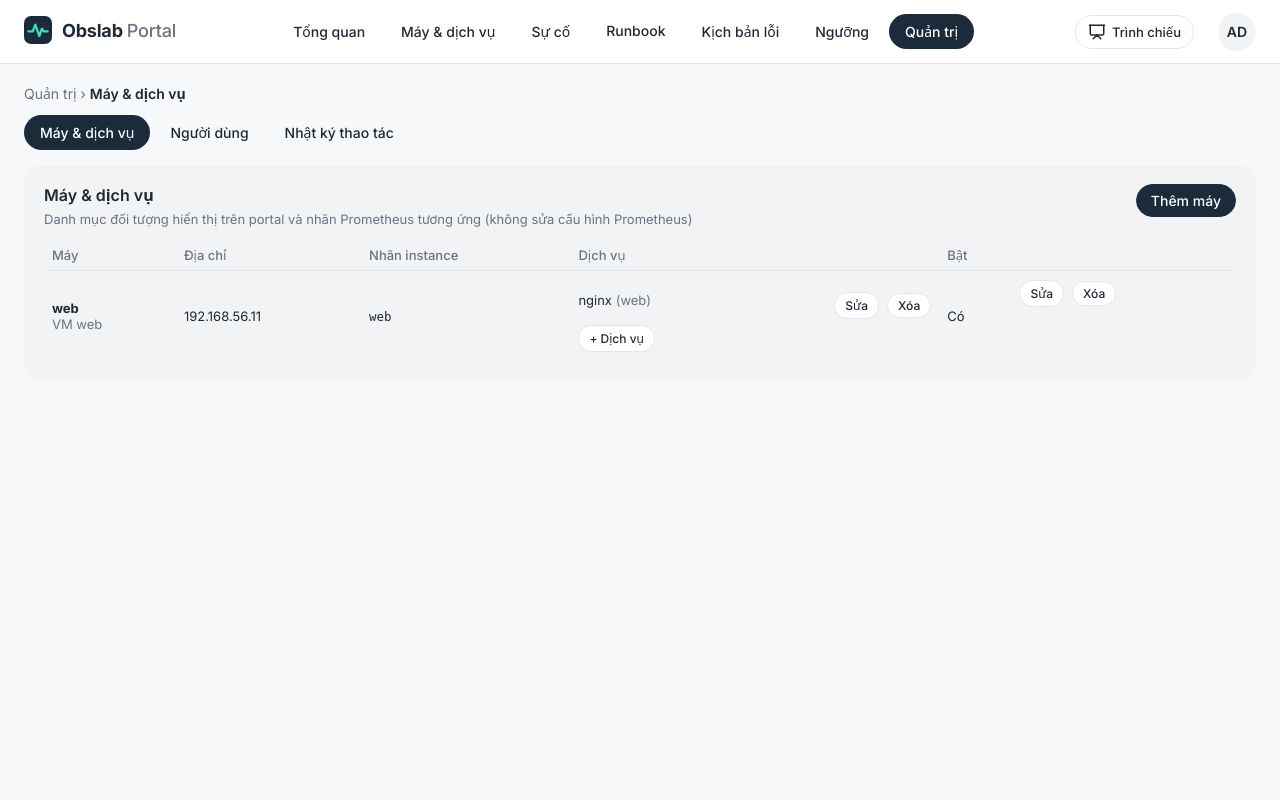
Scenario: quản trị: máy & dịch vụ › thêm máy gửi đủ trường
This screenshot has width=1280, height=800.
Click the button "Thêm máy" at (1186, 200), box x1=1136 y1=184 x2=1236 y2=217
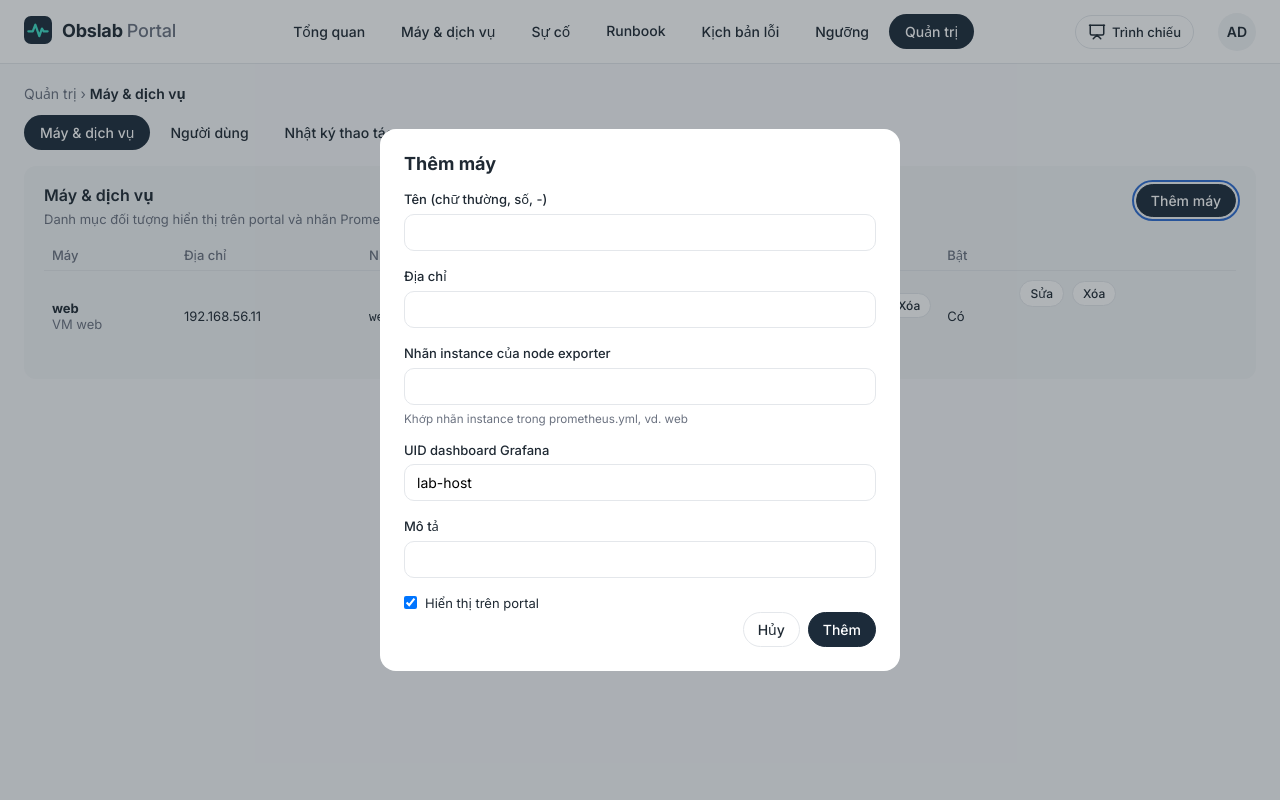
Type "cache" into the field labelled "Tên (chữ thường, số, -)" at (640, 232), box x1=404 y1=214 x2=876 y2=251
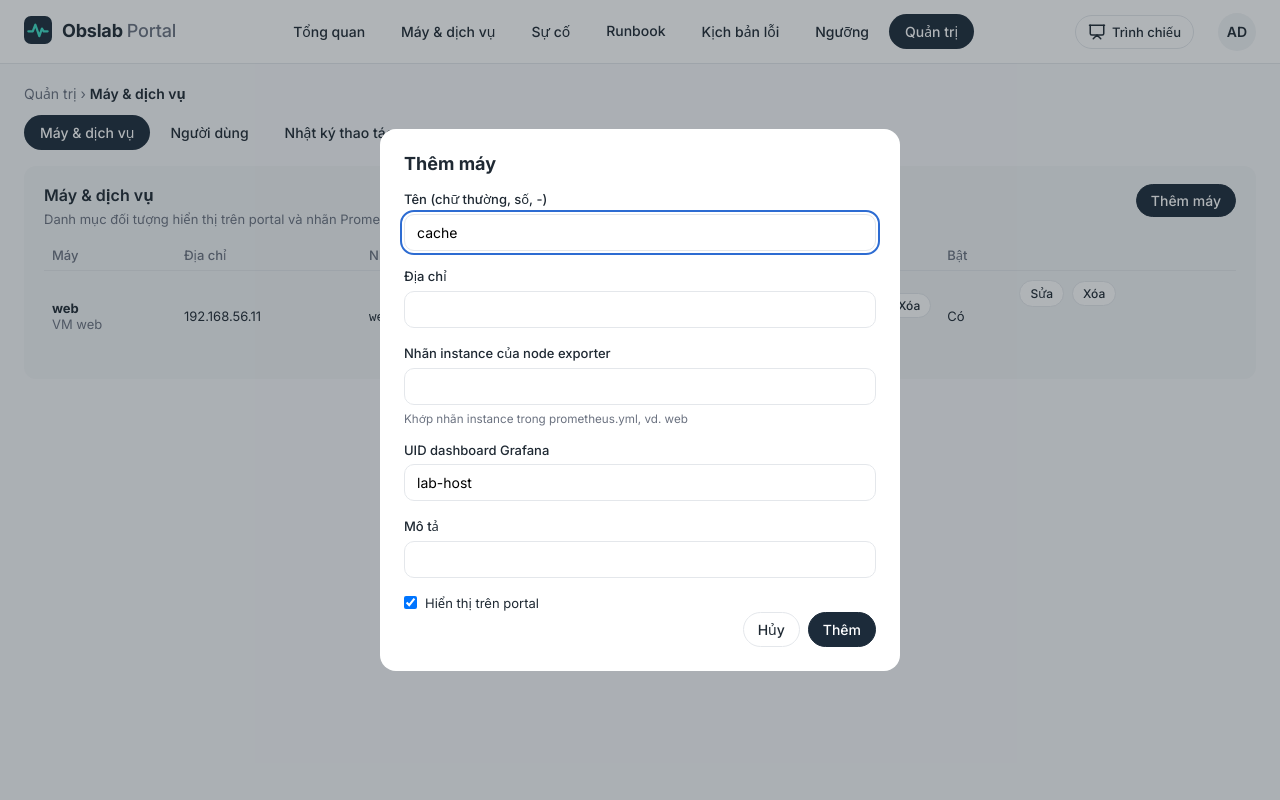
Type "cache" into the field labelled "Nhãn instance của node exporter" at (640, 386), box x1=404 y1=368 x2=876 y2=405
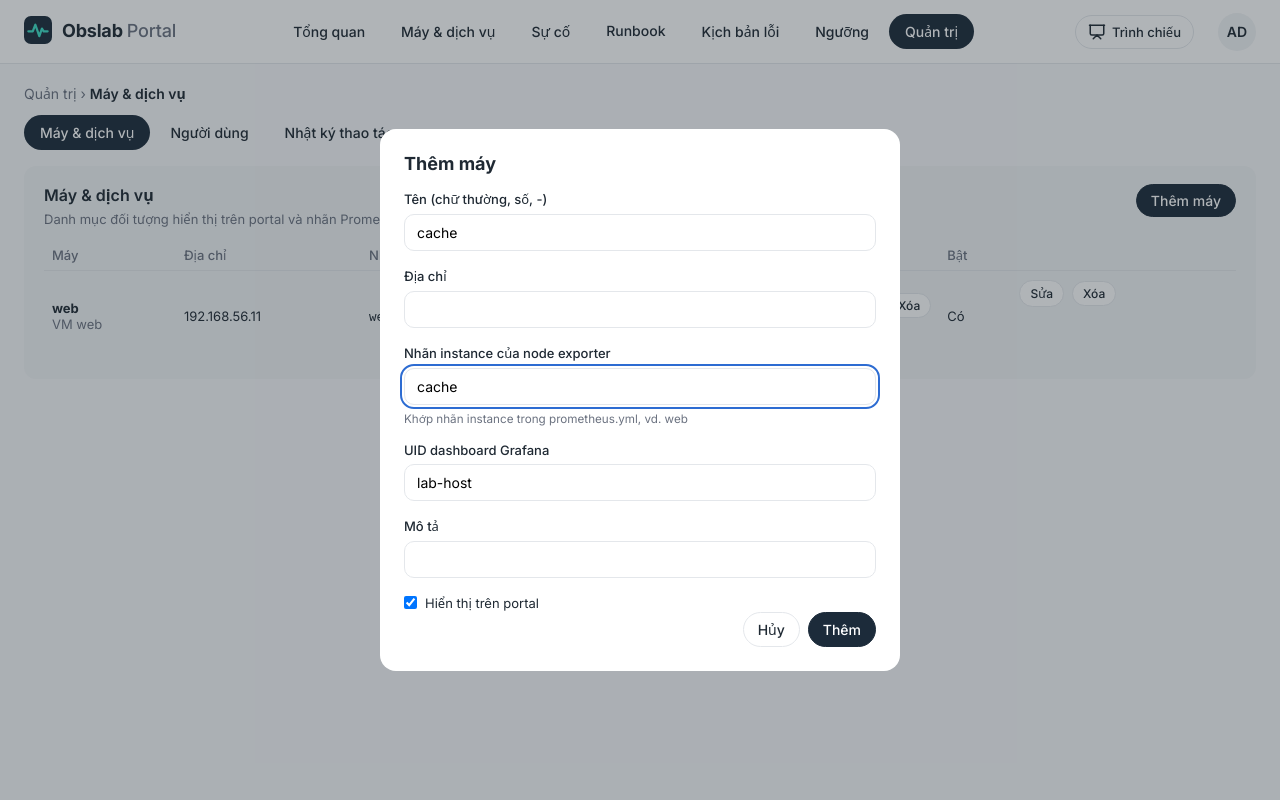
Click the button "Thêm" at (842, 630), box x1=808 y1=612 x2=876 y2=647
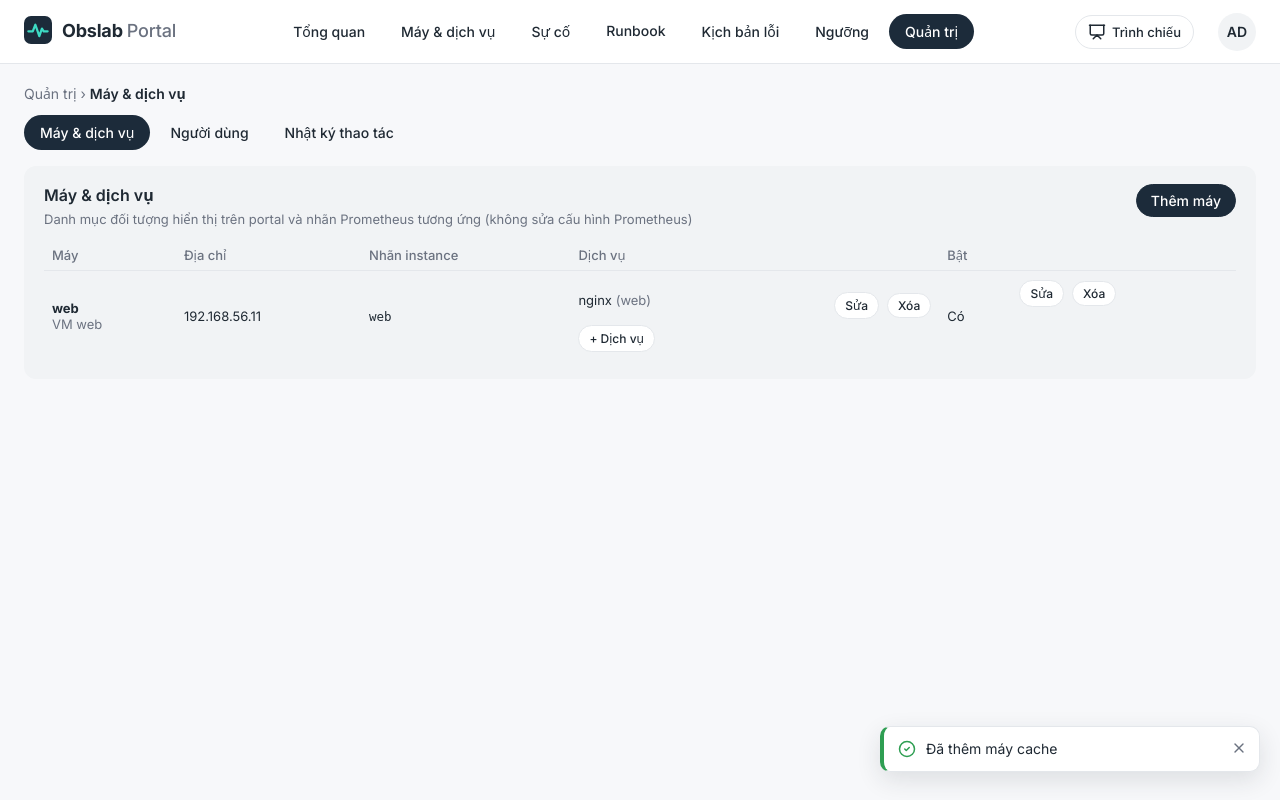
expect the dialog is gone: met
